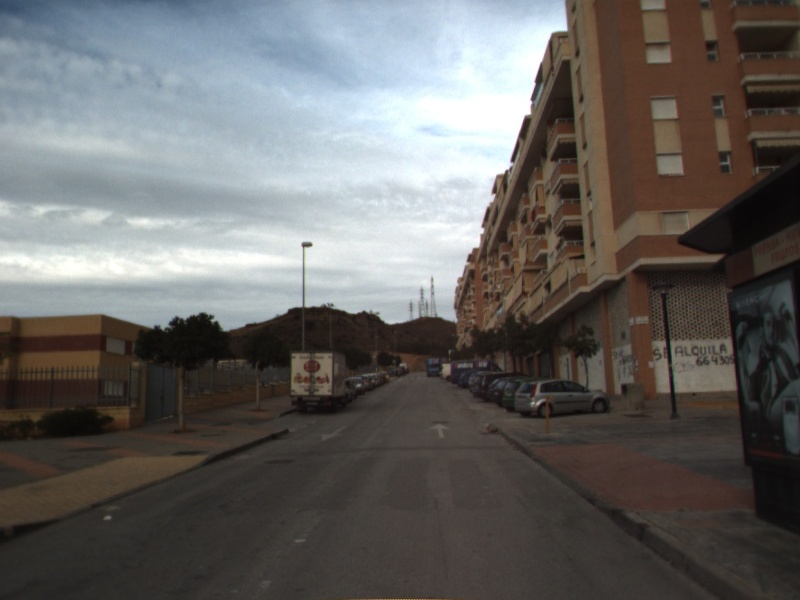STRAIGHT: (428, 421, 452, 440)
